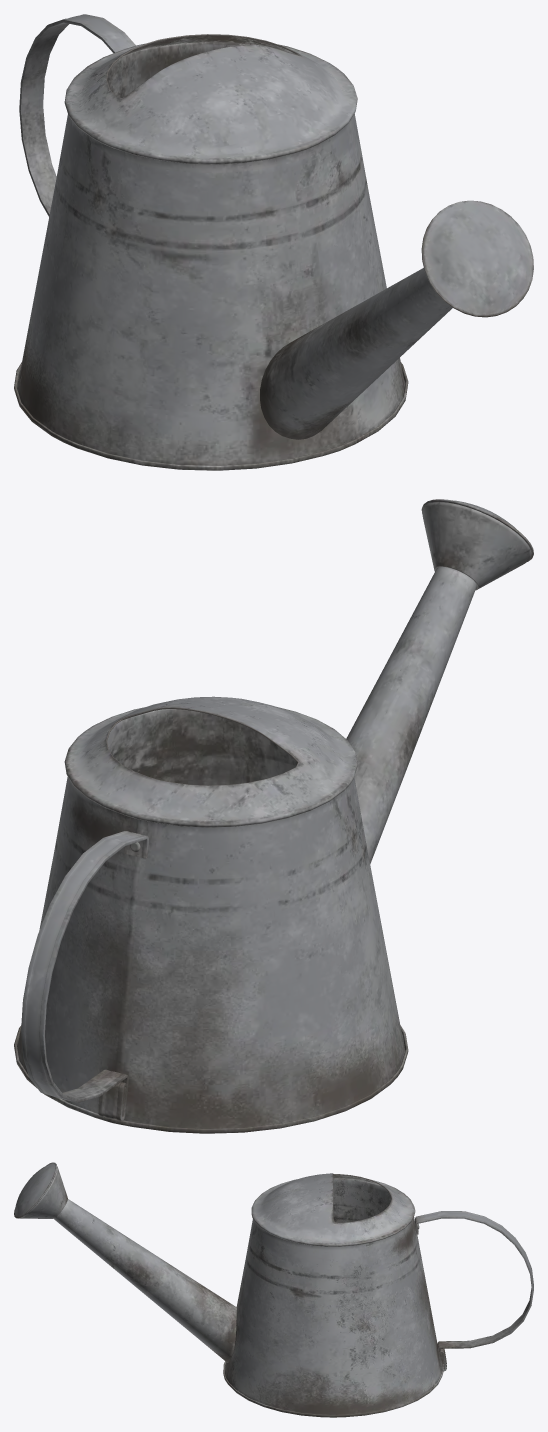
File: watering_can_metal_01_4k-transformed.glb
The picture shows the model from 3 angles, top to bottom: view 1: azimuth 30°, elevation 25°; view 2: azimuth 150°, elevation 25°; view 3: azimuth 270°, elevation 25°; orthographic projection. The views are drawn at different scales.
Visible parts, largest first — view 1: watering_can_metal_01; view 2: watering_can_metal_01; view 3: watering_can_metal_01.
Part boxes in pixels (bbox=[...]): watering_can_metal_01: bbox=[14, 14, 533, 470]; watering_can_metal_01: bbox=[14, 499, 533, 1133]; watering_can_metal_01: bbox=[14, 1162, 533, 1417].
Size of the model in its own units: 0.191 by 0.1968 by 0.4523.
1 material, 1 textured.
